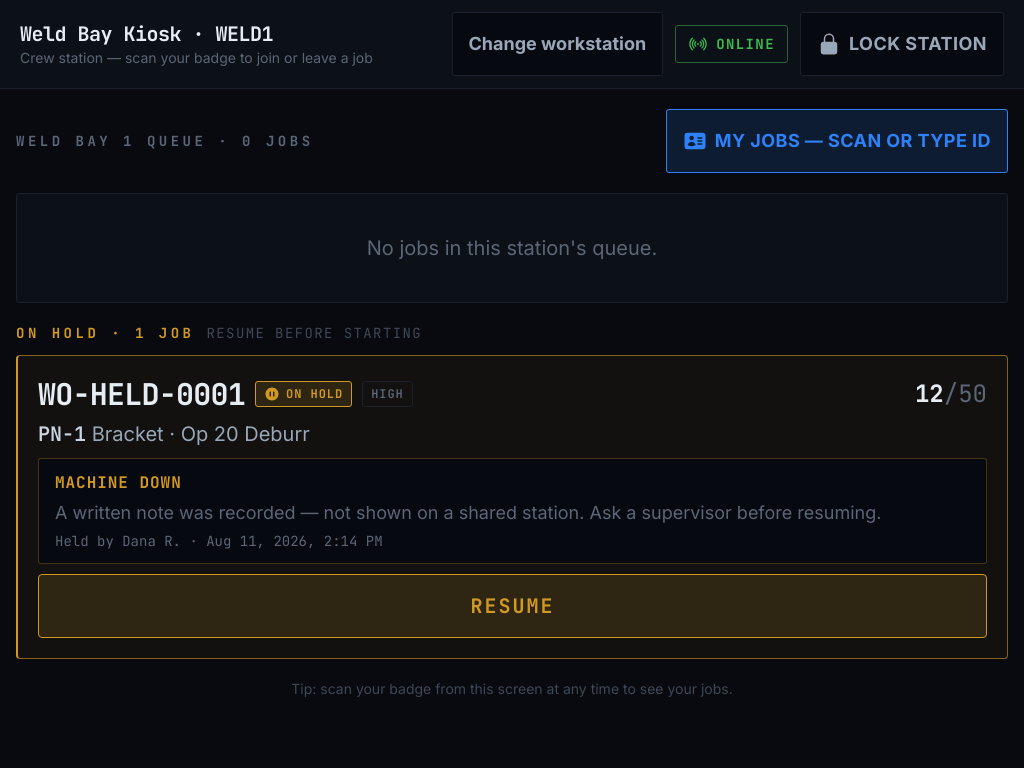
it: CrewStationKiosk — held operations › does not claim "resumed" when the lift landed back on PENDING
Step 1. Click the button with test id "kiosk-held-resume" → (512, 606), box [38,574,987,638]
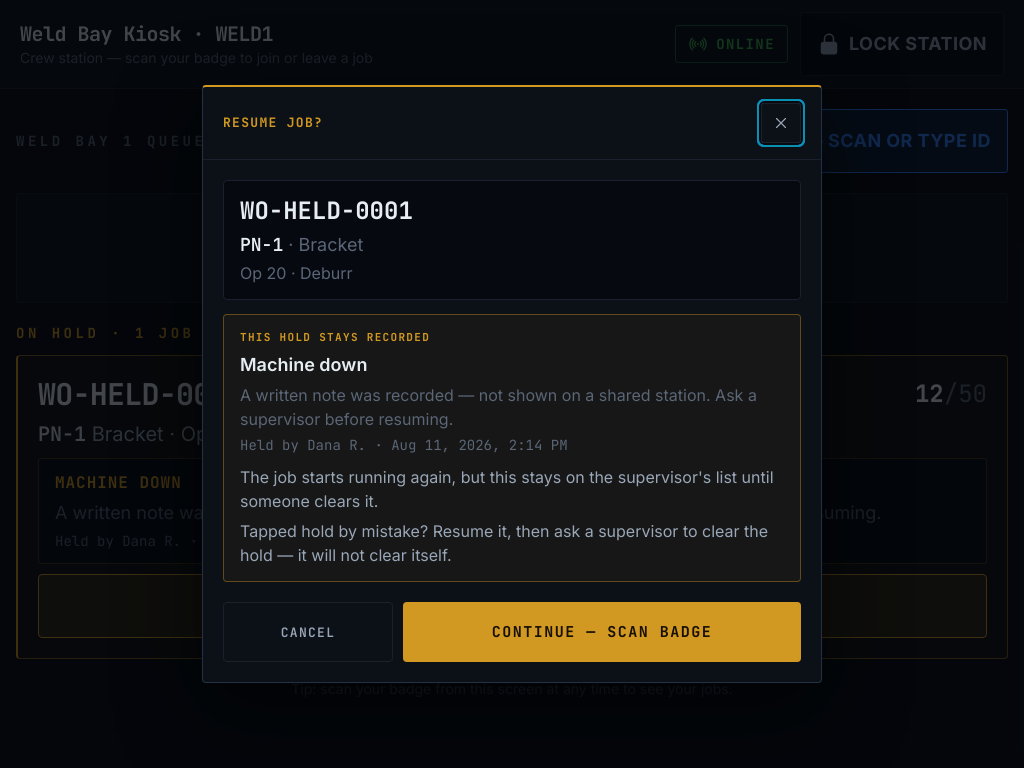
Expected: the dialog is shown, [202,85,822,683]
Step 2. Click the button with test id "kiosk-resume-confirm" → (602, 632), box [403,602,801,662]
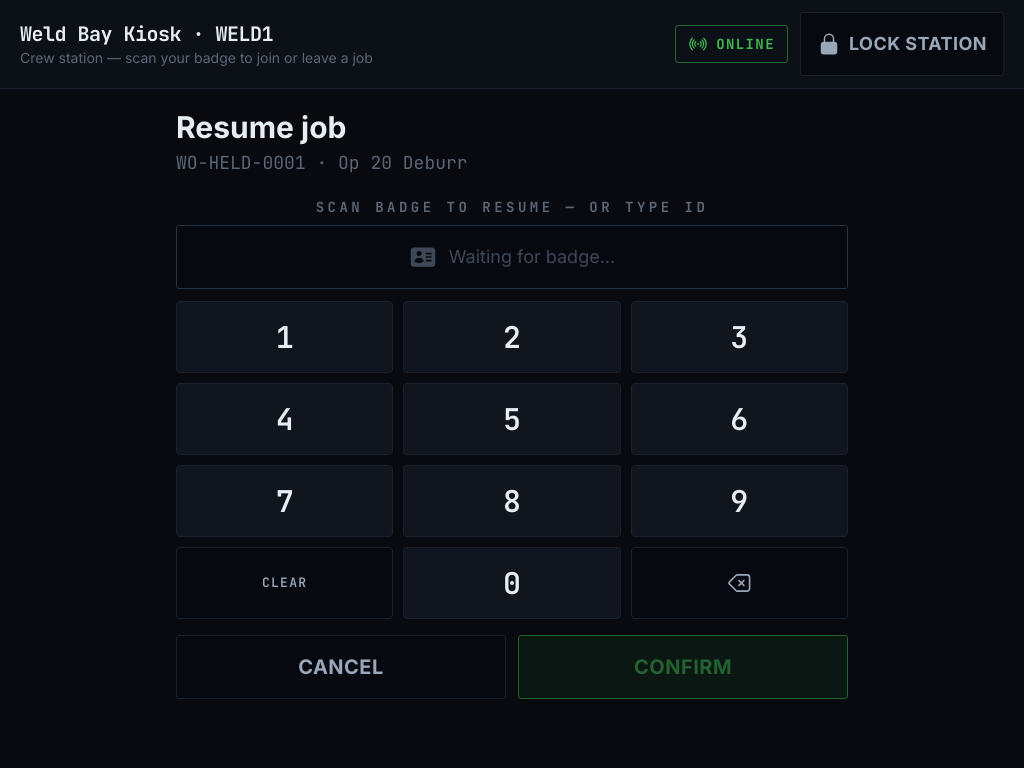
Expected: the element with test id "crew-resume-badge-display" is shown, [176,225,848,289]
Step 3. Type keys "4217{Enter}"
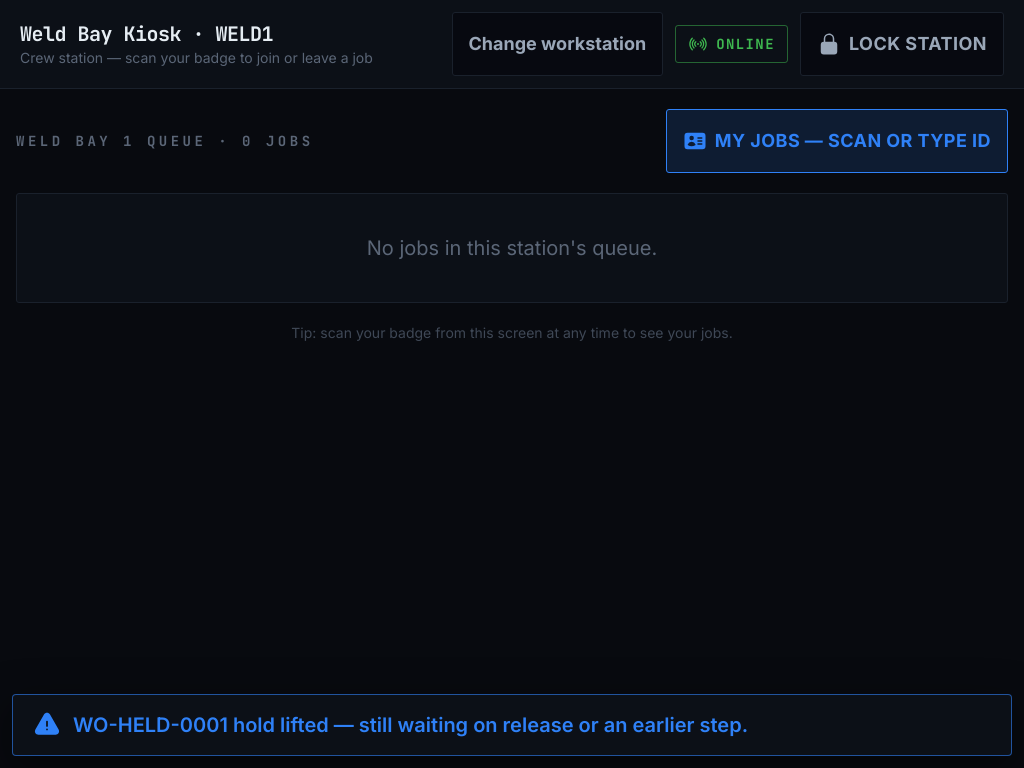
Expected: the text "hold lifted" is shown, [73,713,748,737]
